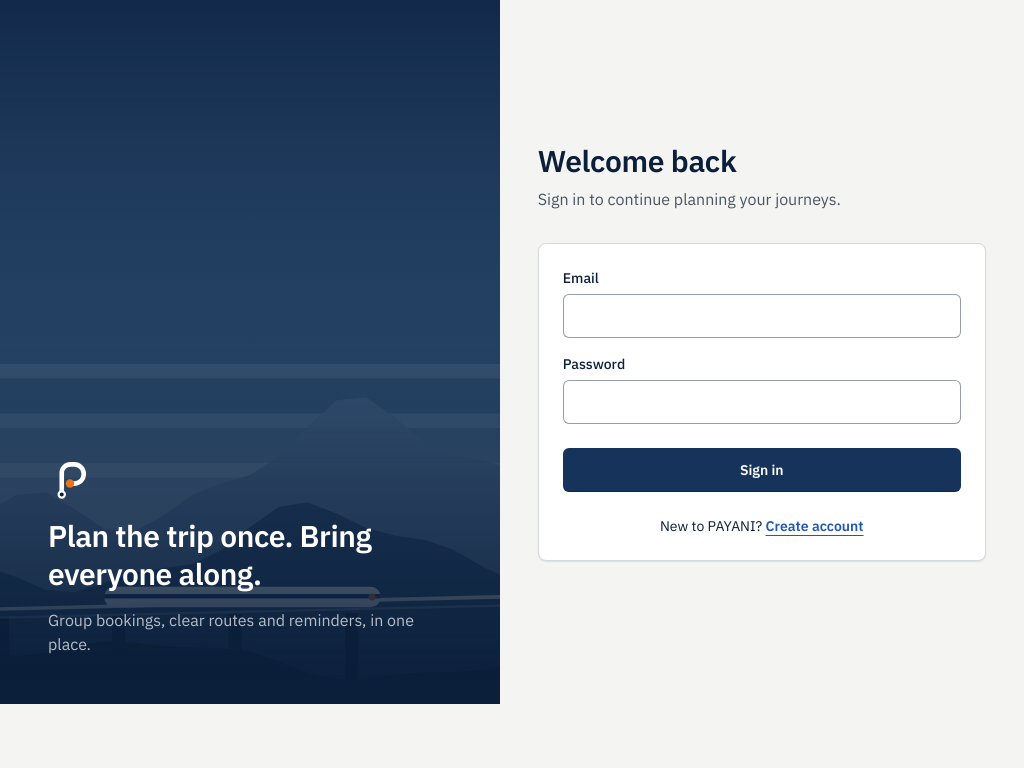
Test case: LoginPage › shows the API's message on wrong credentials
The width and height of the screenshot is (1024, 768).
In the field labelled "Email": (762, 316) [563,294,961,338], type "priya@example.com"
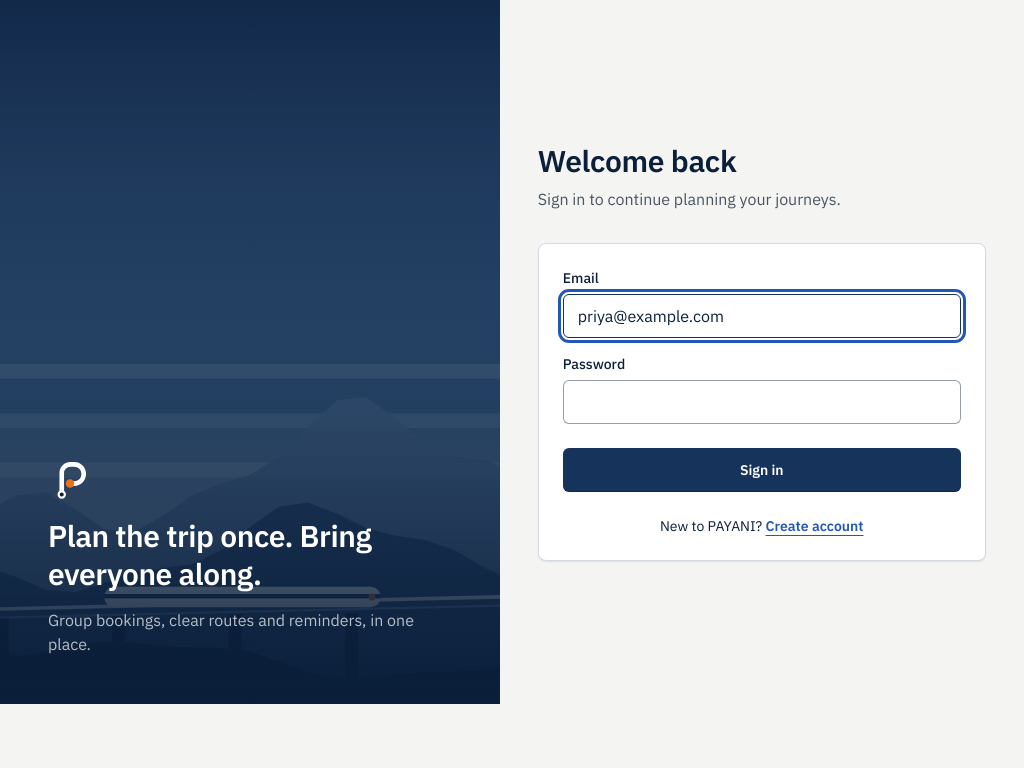
In the password field labelled "Password": (762, 402) [563,380,961,424], type "wrong-password"
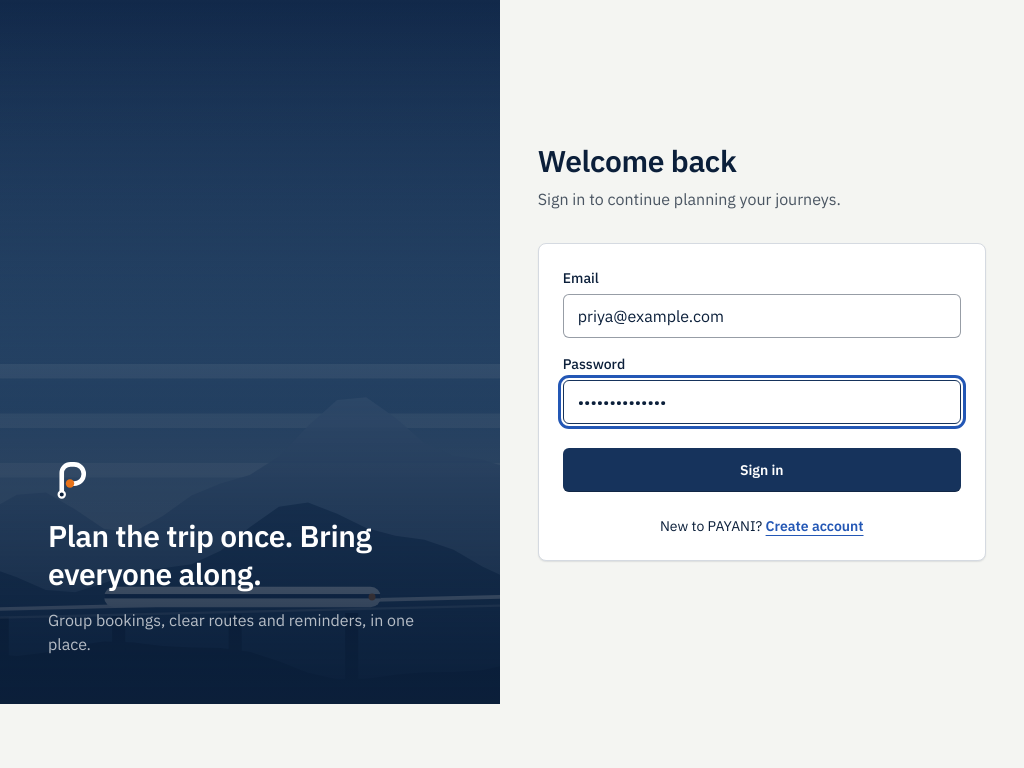
Click the button "Sign in": (762, 470) [563,448,961,492]
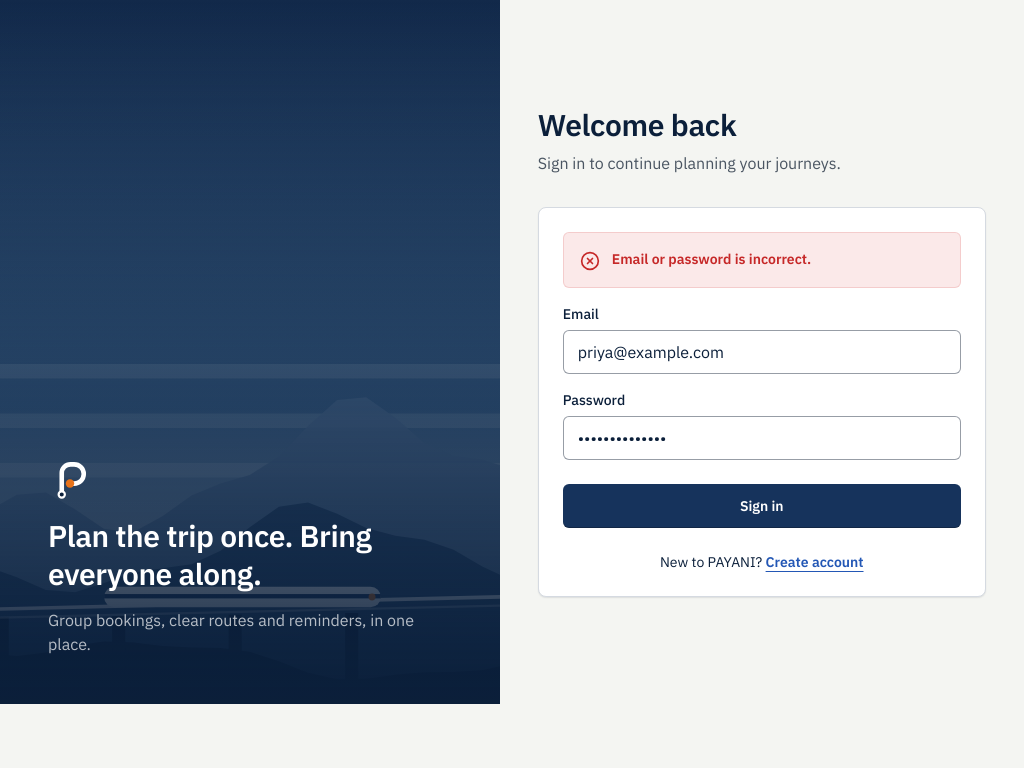
expect the message reads "Email or password is incorrect.": met, box [612,250,811,268]
